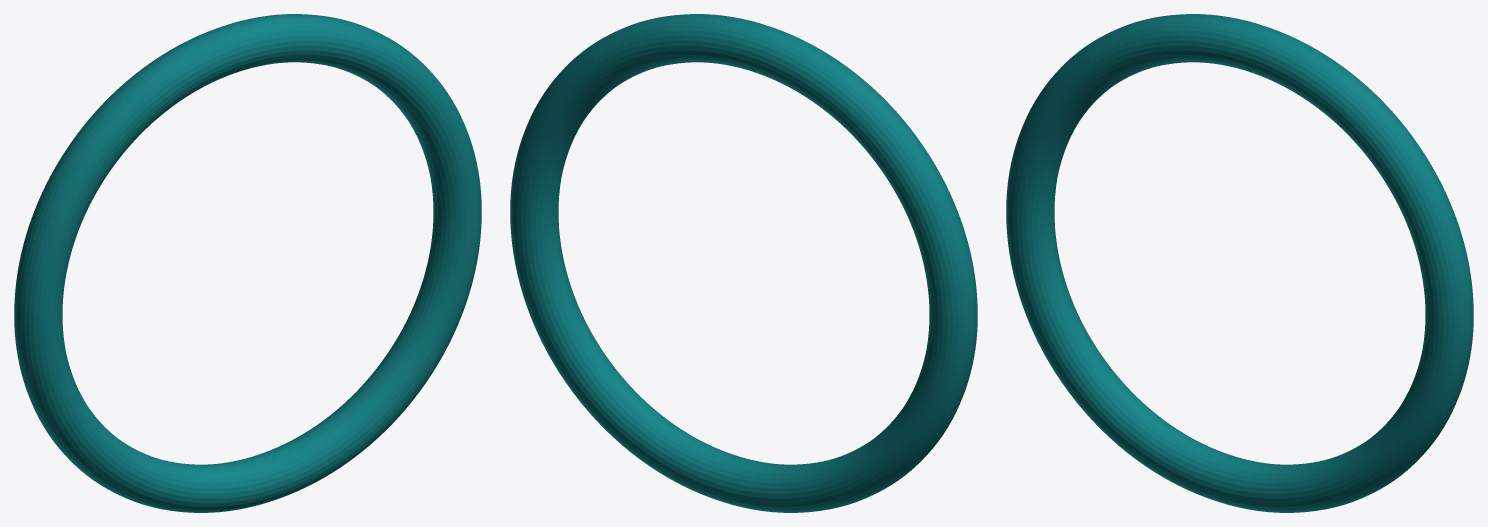
The model's file is title.fbx.
The picture shows the model from 3 angles, left to right: view 1: azimuth 30°, elevation 25°; view 2: azimuth 150°, elevation 25°; view 3: azimuth 330°, elevation 25°; orthographic projection.
Visible parts, largest first — view 1: Torus.001; view 2: Torus.001; view 3: Torus.001.
Part boxes in pixels (x1,y1,x2,y2): Torus.001: [14, 14, 481, 512]; Torus.001: [510, 14, 977, 512]; Torus.001: [1006, 14, 1473, 512].
Bounding box in the file's own units: 220 × 220 × 19.97.
Materials: 1 (1 with a texture image).
